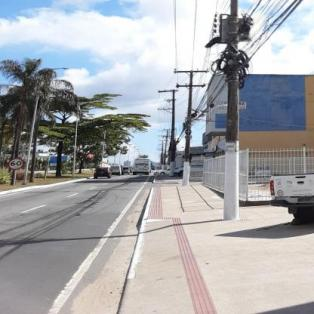Poste: (221, 0, 242, 218), (182, 69, 192, 185), (170, 88, 176, 176)
